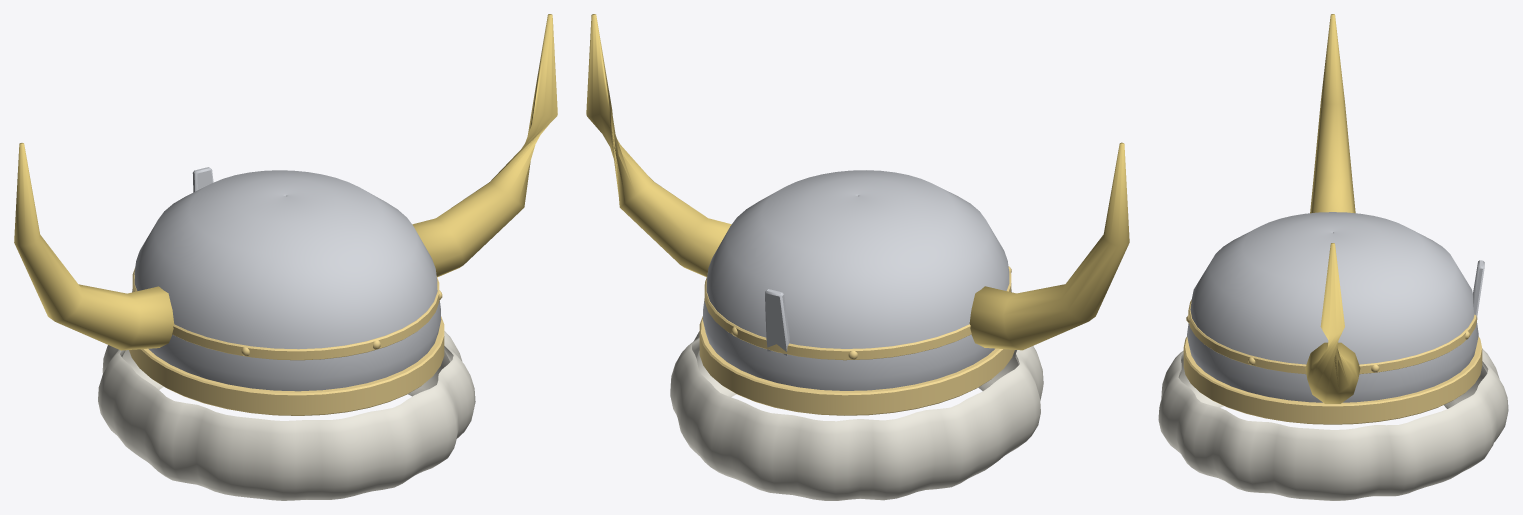
Rendered from helm_hoerner2.glb.
3 views of the same model, side by side, from view 1: azimuth 30°, elevation 25°; view 2: azimuth 150°, elevation 25°; view 3: azimuth 270°, elevation 25° (orthographic). The views are drawn at different scales.
Visible parts, largest first — view 1: G_helm_hoerner2; view 2: G_helm_hoerner2; view 3: G_helm_hoerner2.
Part boxes in pixels (box(x1,y1,x2,y2)): G_helm_hoerner2: box(14, 14, 557, 500); G_helm_hoerner2: box(586, 14, 1129, 500); G_helm_hoerner2: box(1158, 14, 1508, 500).
Bounding box in the file's own units: 0.5002 × 0.3127 × 0.3165.
